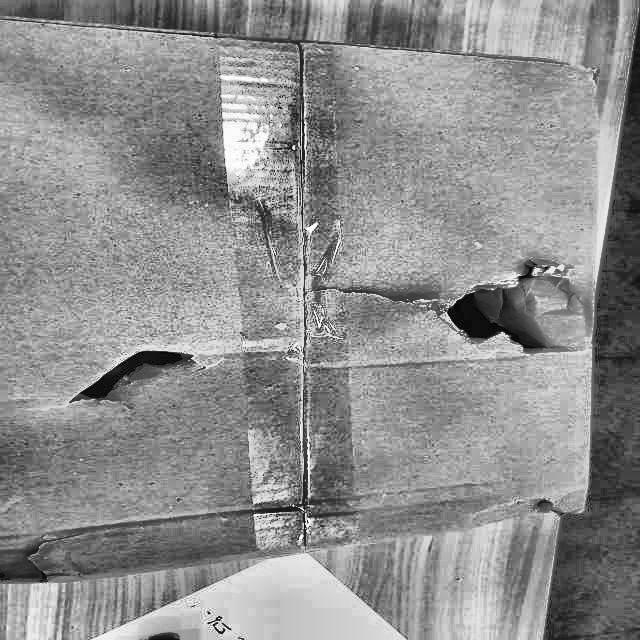box: (0, 0, 612, 598)
hole: (428, 258, 588, 368), (61, 345, 215, 409)
